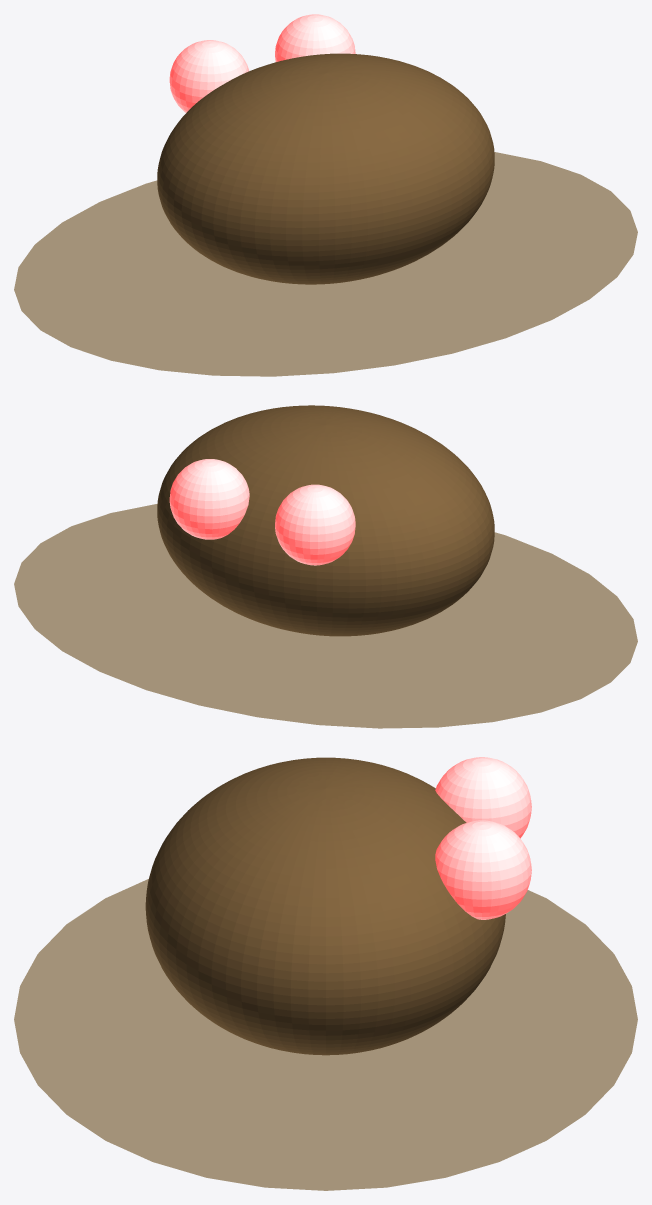
Rendered from PoopBlob.glb.
The picture shows the model from 3 angles, top to bottom: view 1: azimuth 30°, elevation 25°; view 2: azimuth 150°, elevation 25°; view 3: azimuth 270°, elevation 25°; orthographic projection. The views are drawn at different scales.
Visible parts, largest first — view 1: PoopBlob_Puddle, PoopBlob_Body, PoopBlob_Eye_Left, PoopBlob_Eye_Right; view 2: PoopBlob_Puddle, PoopBlob_Body, PoopBlob_Eye_Left, PoopBlob_Eye_Right; view 3: PoopBlob_Puddle, PoopBlob_Body, PoopBlob_Eye_Right, PoopBlob_Eye_Left.
Part boxes in pixels (box(x1,y1,x2,y2)): PoopBlob_Puddle: box(14, 152, 637, 376); PoopBlob_Body: box(157, 53, 494, 284); PoopBlob_Eye_Left: box(169, 40, 249, 112); PoopBlob_Eye_Right: box(275, 14, 355, 61); PoopBlob_Puddle: box(14, 503, 637, 728); PoopBlob_Body: box(157, 405, 494, 636); PoopBlob_Eye_Left: box(275, 484, 355, 565); PoopBlob_Eye_Right: box(169, 459, 249, 539); PoopBlob_Puddle: box(14, 879, 637, 1190); PoopBlob_Body: box(145, 757, 505, 1055); PoopBlob_Eye_Right: box(435, 820, 531, 919); PoopBlob_Eye_Left: box(435, 757, 531, 838).
Size of the model in its own units: 1.3 by 0.4168 by 1.
